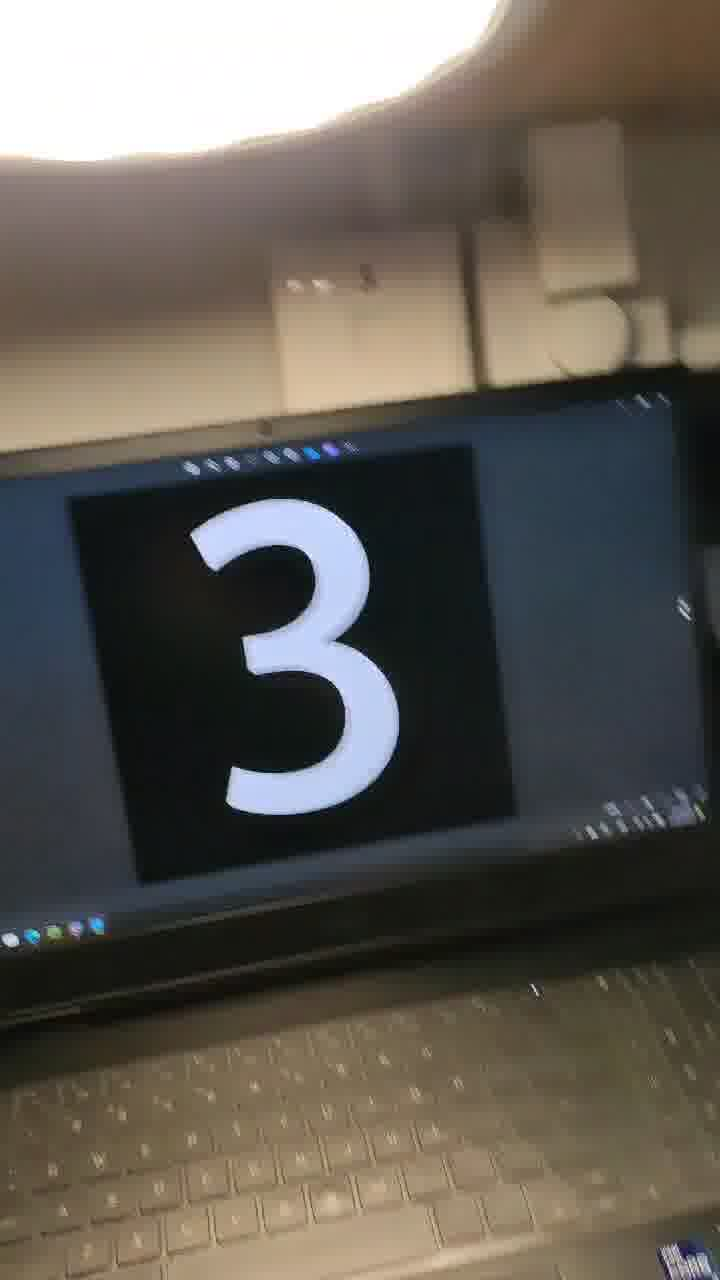three: (108, 415, 449, 883)
